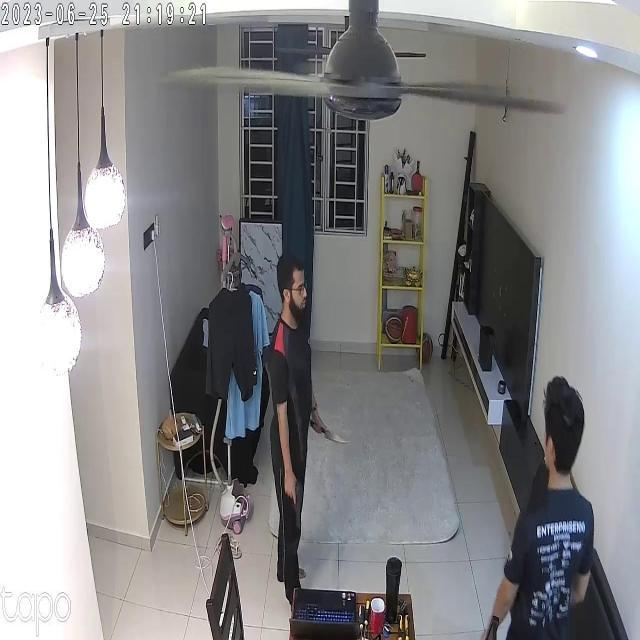Knife: (308, 401, 352, 454)
